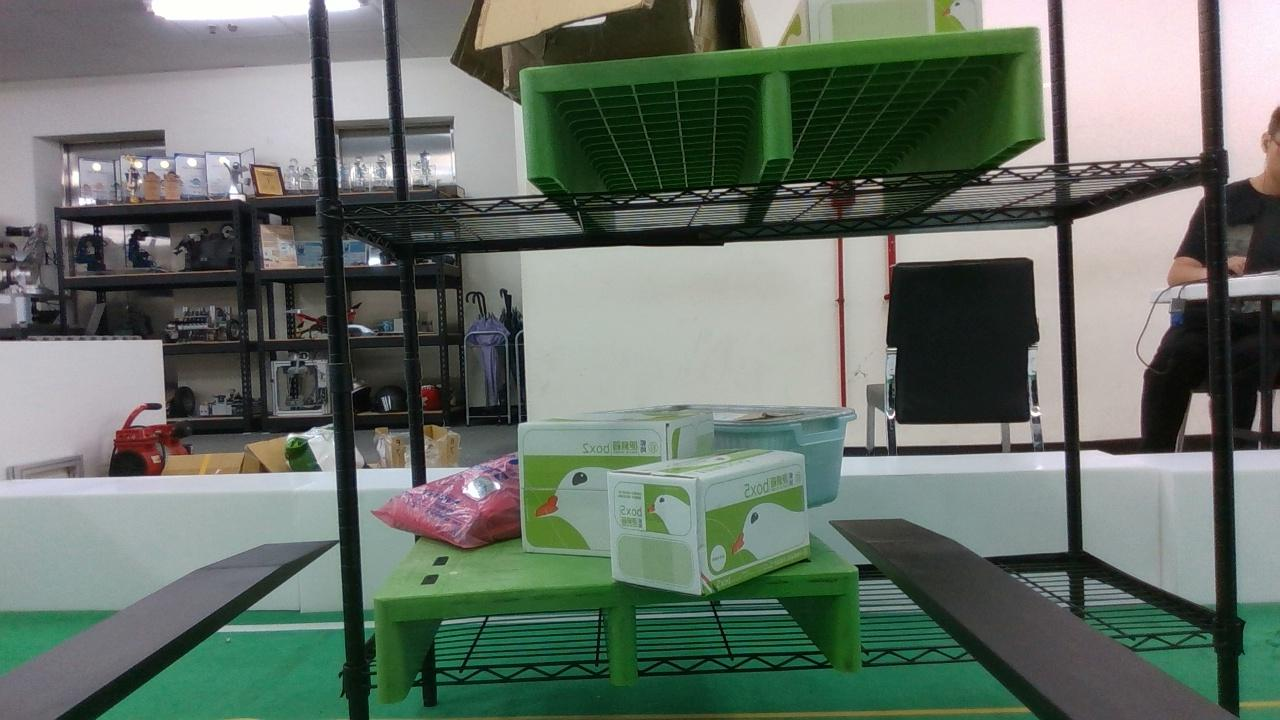Pallet: (519, 27, 1053, 183), (371, 571, 863, 699)
